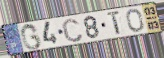4: (43, 20, 61, 47)
8: (83, 15, 102, 40)
C: (61, 17, 85, 43)
G: (20, 23, 43, 51)
O: (125, 8, 146, 33)
T: (106, 10, 122, 37)
